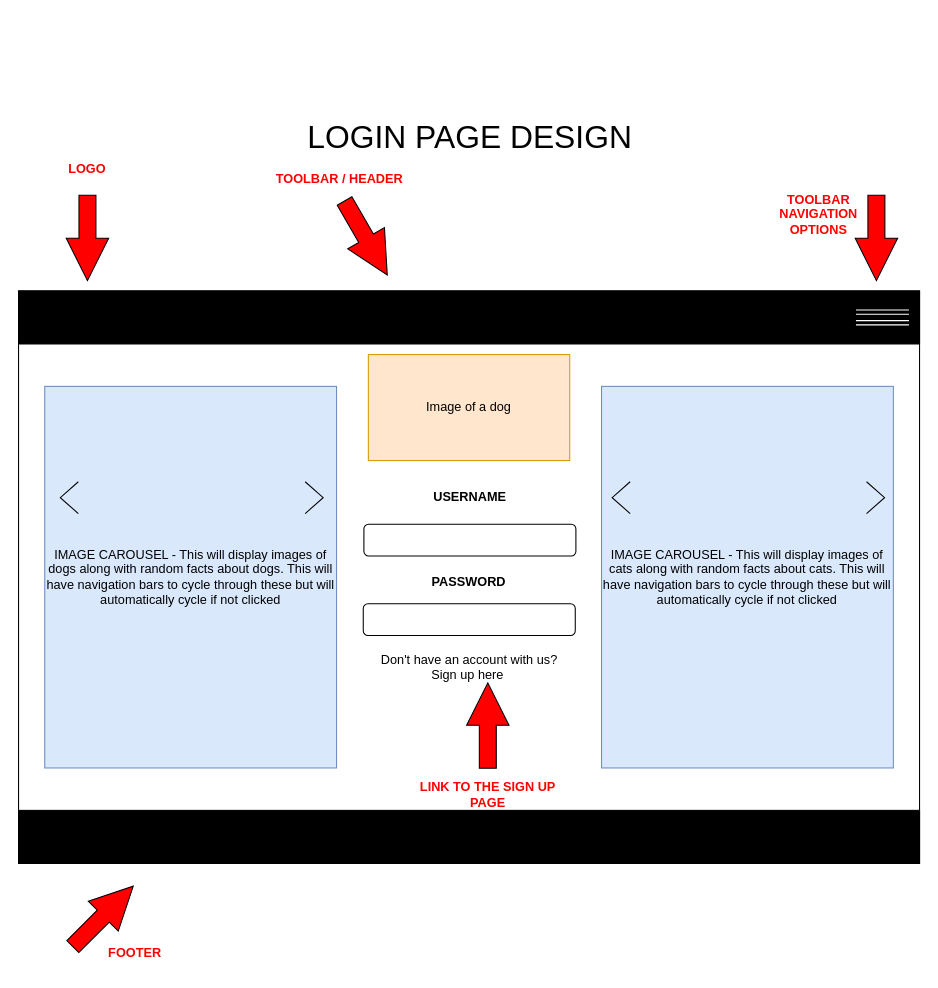
Image size: 938x988. Some labels were removed from this diagram. The centre of each missing label's shape, as x and y in pixels:
"PETS R US" belongs at pixel 468 317.
"PETS R US 2023" belongs at pixel 468 836.
